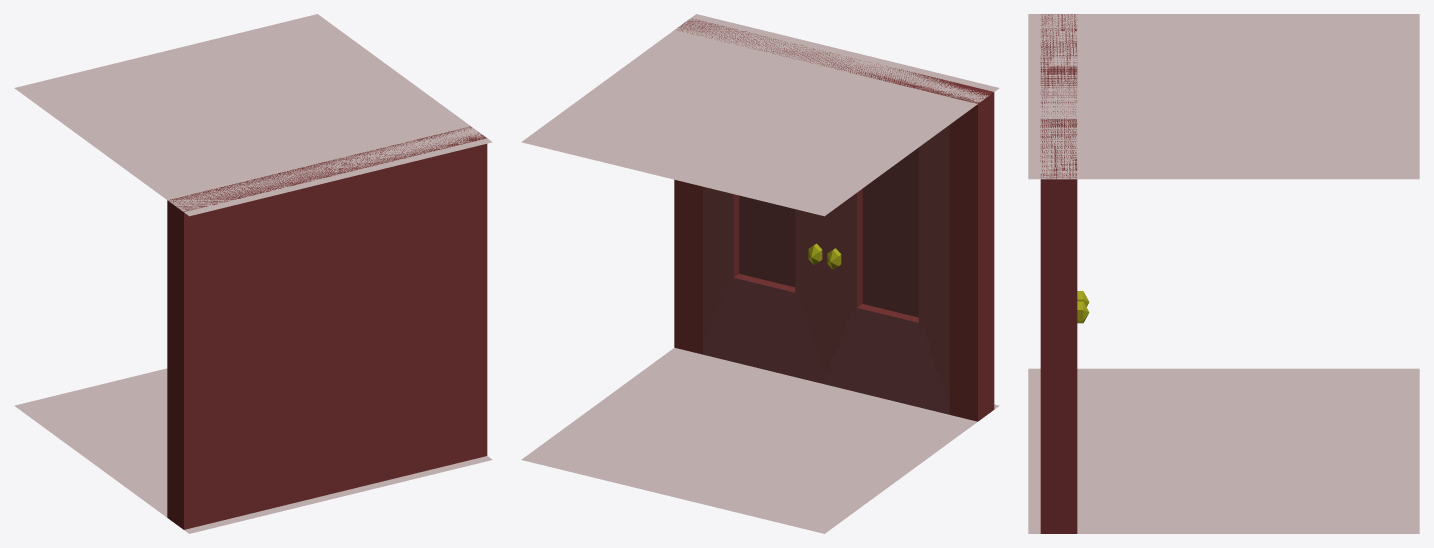
Rendered from OfficeDoor.gltf.
The picture shows the model from 3 angles, left to right: view 1: azimuth 30°, elevation 25°; view 2: azimuth 150°, elevation 25°; view 3: azimuth 270°, elevation 25°; orthographic projection. The views are drawn at different scales.
Parts seen in each view (by area): view 1: officedoor, ceiling, floor; view 2: officedoor, ceiling, floor; view 3: ceiling, floor, officedoor.
Boxes of the visible parts, x1,y1,x2,y2 form: officedoor: [167, 126, 487, 529]; ceiling: [14, 14, 492, 216]; floor: [14, 368, 492, 533]; officedoor: [674, 18, 994, 421]; ceiling: [521, 14, 999, 216]; floor: [521, 347, 999, 533]; ceiling: [1028, 14, 1419, 179]; floor: [1028, 368, 1419, 533]; officedoor: [1040, 14, 1077, 533].
Bounding box in the file's own units: 2 × 2 × 2.
3 materials, 3 textured.
